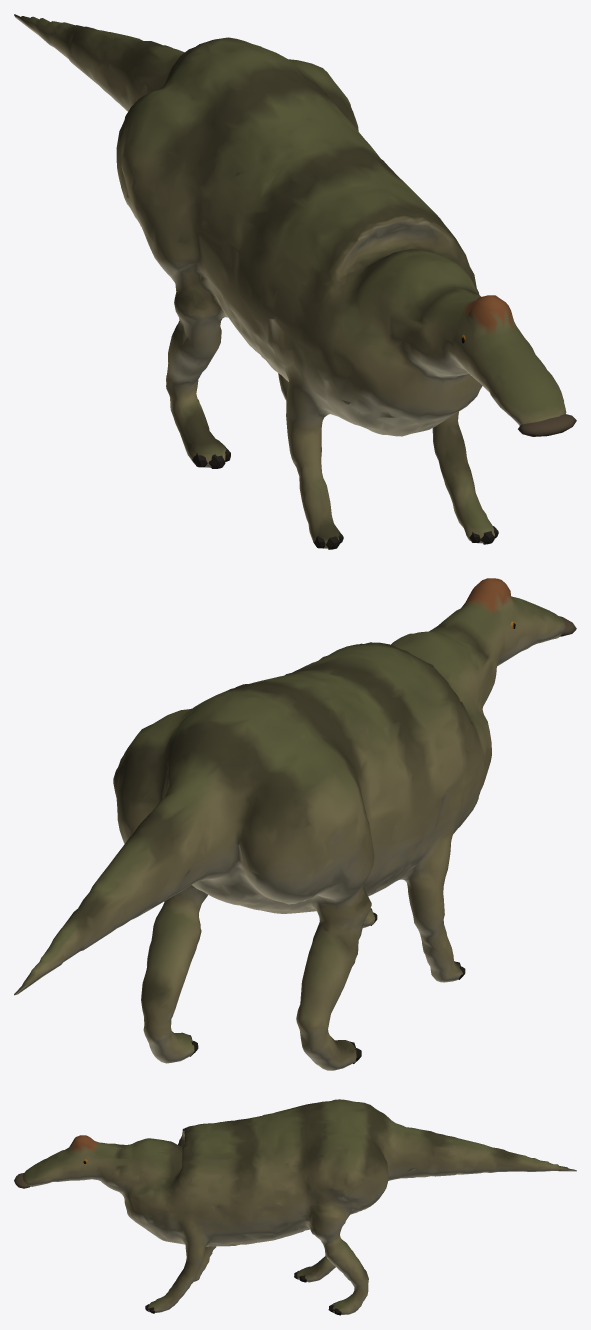
Rendered from Maiasaura.fbx.
The picture shows the model from 3 angles, top to bottom: view 1: azimuth 30°, elevation 25°; view 2: azimuth 150°, elevation 25°; view 3: azimuth 270°, elevation 25°; orthographic projection. The views are drawn at different scales.
Parts seen in each view (by area): view 1: Maiasaura; view 2: Maiasaura; view 3: Maiasaura.
Part boxes in pixels (<box>): Maiasaura: <box>14,14,576,549</box>; Maiasaura: <box>14,578,576,1070</box>; Maiasaura: <box>14,1099,576,1315</box>.
Bounding box in the file's own units: 0.4666 × 0.7407 × 1.95.
